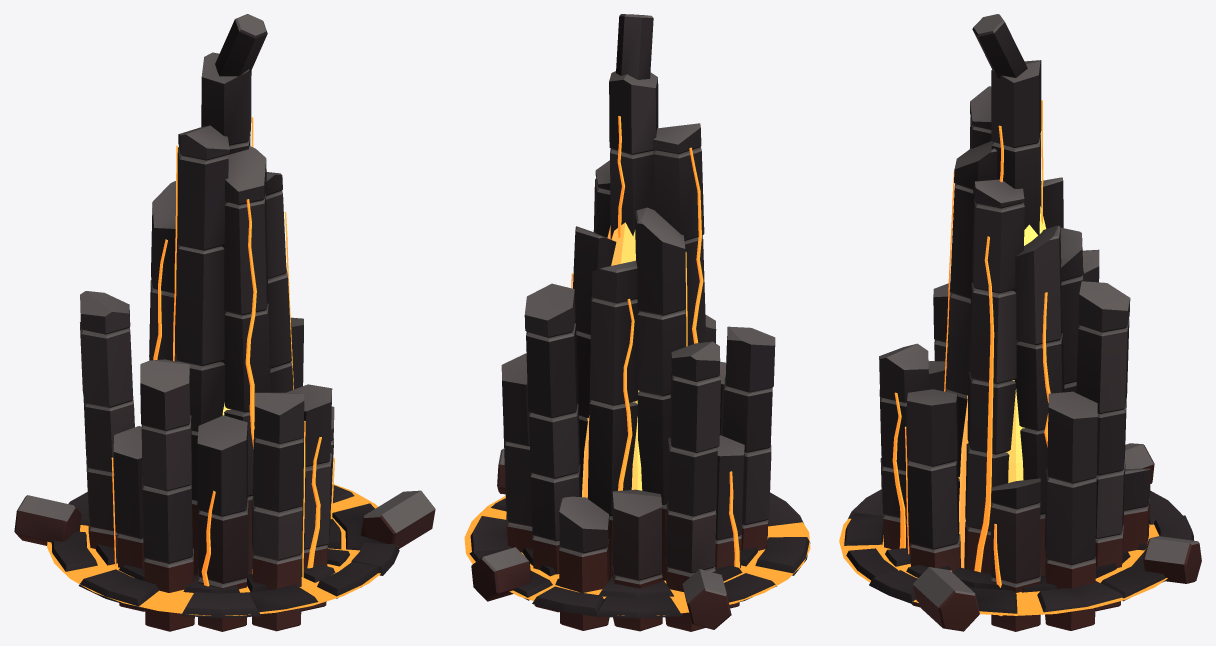
File: volcano_spire.glb
The picture shows the model from 3 angles, left to right: view 1: azimuth 30°, elevation 25°; view 2: azimuth 150°, elevation 25°; view 3: azimuth 270°, elevation 25°; orthographic projection.
Parts seen in each view (by area): view 1: volcano_spire; view 2: volcano_spire; view 3: volcano_spire.
Boxes of the visible parts, box(x1,y1,x2,y2) form: volcano_spire: box(14, 14, 435, 631); volcano_spire: box(464, 14, 810, 631); volcano_spire: box(839, 14, 1201, 631).
Bounding box in the file's own units: 13.07 × 21.7 × 12.51.
